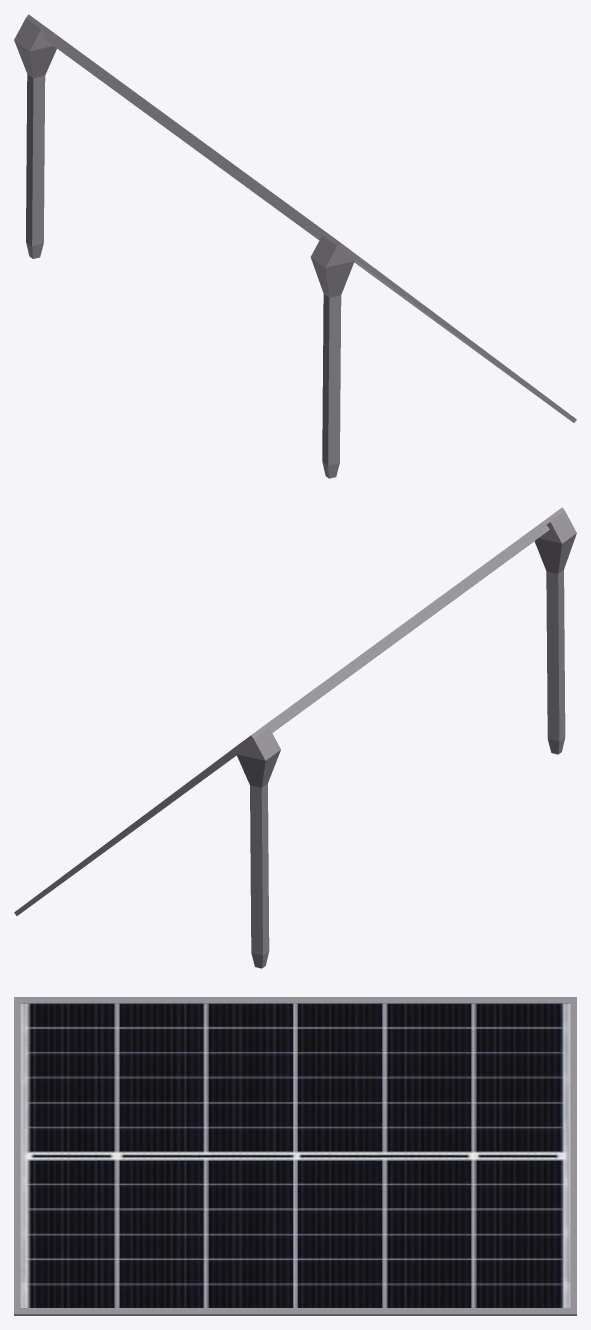
File: solarpanel.glb
3 views of the same model, one above another, from view 1: azimuth 30°, elevation 25°; view 2: azimuth 150°, elevation 25°; view 3: azimuth 270°, elevation 25° (orthographic). The views are drawn at different scales.
Parts seen in each view (by area): view 1: SolarPanel-col; view 2: SolarPanel-col; view 3: SolarPanel-col.
Part boxes in pixels (left/top/right/bottom): SolarPanel-col: left=14, top=14, right=576, bottom=478; SolarPanel-col: left=14, top=507, right=576, bottom=968; SolarPanel-col: left=14, top=997, right=576, bottom=1315.
Bounding box in the file's own units: 2.24 × 2.03 × 4.79.
2 materials, 1 textured.
